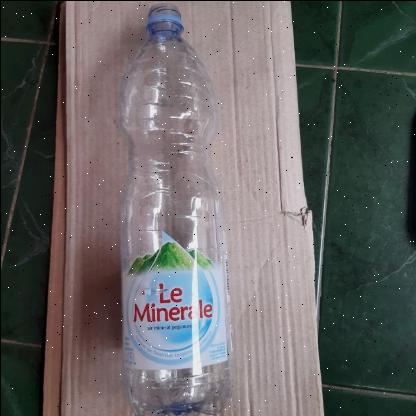Plastic Bottle: (121, 4, 233, 416)
